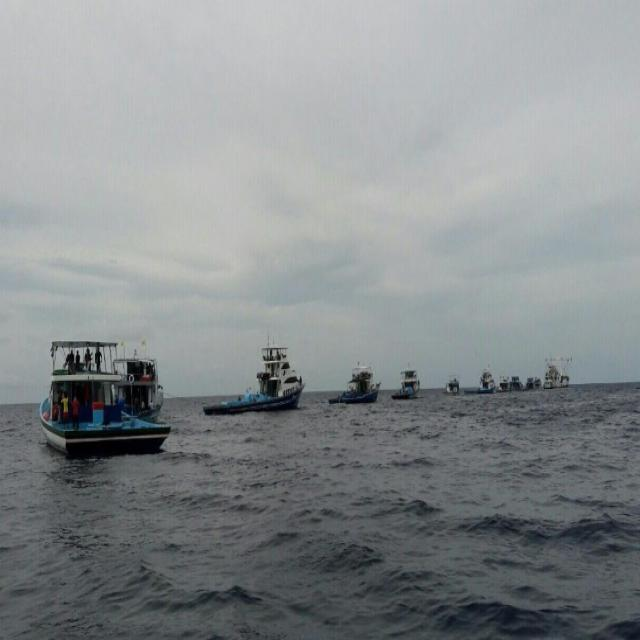fishing boat: (29, 321, 189, 465), (198, 331, 321, 431), (324, 360, 378, 408), (394, 357, 423, 402), (468, 364, 497, 396)
